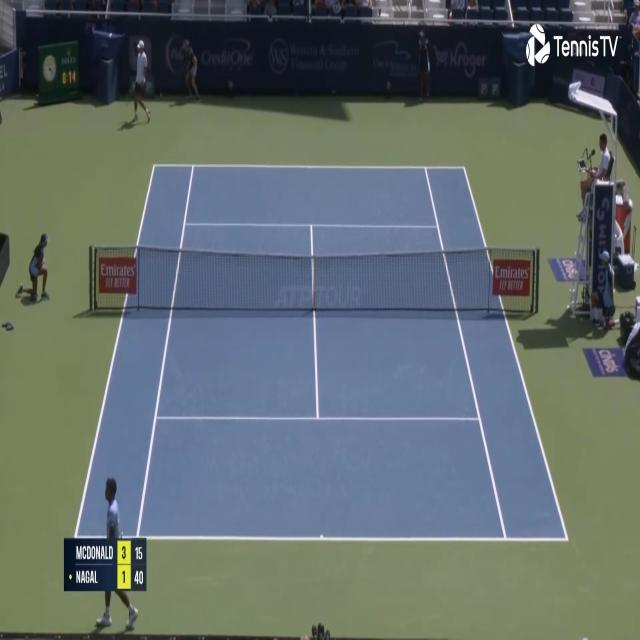tennis-player: (94, 472, 141, 634), (126, 37, 152, 127)
